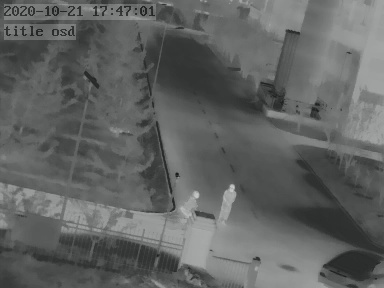person: (220, 181, 236, 223), (183, 189, 198, 216)
vehicle: (314, 244, 384, 288)
